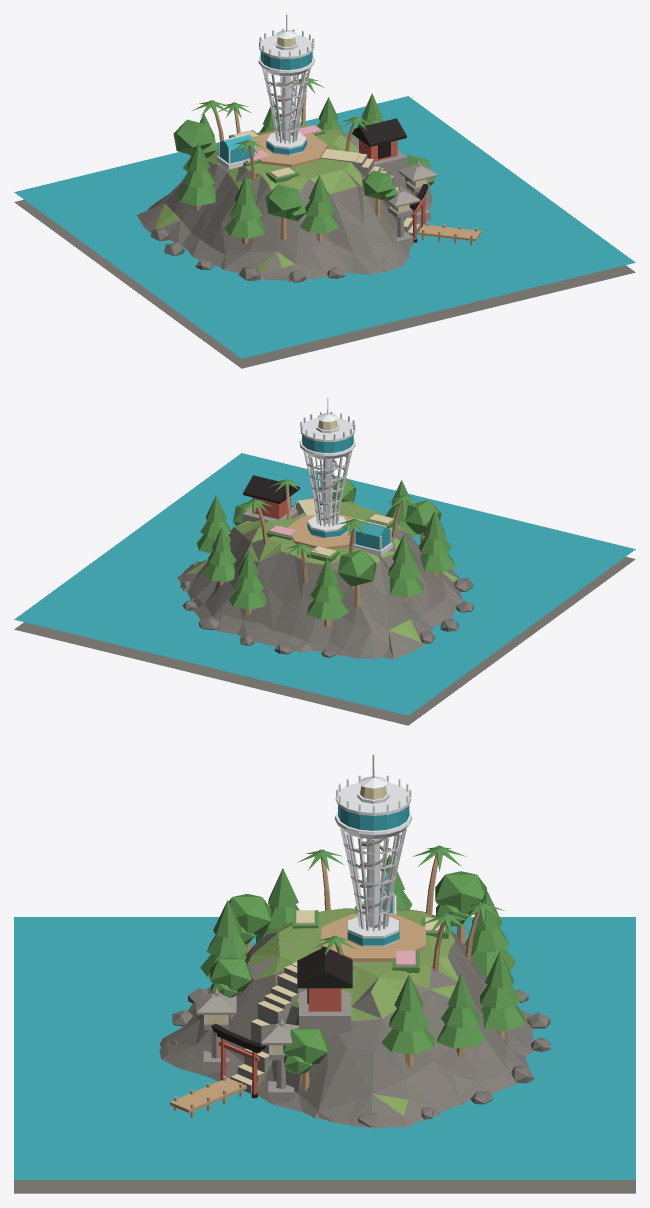
Rendered from enoshima-lighthouse.glb.
The picture shows the model from 3 angles, top to bottom: view 1: azimuth 30°, elevation 25°; view 2: azimuth 150°, elevation 25°; view 3: azimuth 270°, elevation 25°; orthographic projection. The views are drawn at different scales.
Parts seen in each view (by area): view 1: enoshima_water, enoshima_darkstone, enoshima_foliage, enoshima_snow, enoshima_terrain, enoshima_wood, enoshima_stone, enoshima_roof, enoshima_cream, enoshima_vermilion; view 2: enoshima_water, enoshima_darkstone, enoshima_foliage, enoshima_snow, enoshima_terrain, enoshima_wood, enoshima_roof, enoshima_stone, enoshima_cream; view 3: enoshima_water, enoshima_darkstone, enoshima_foliage, enoshima_snow, enoshima_terrain, enoshima_stone, enoshima_wood, enoshima_roof, enoshima_vermilion, enoshima_cream.
Part boxes in pixels (<box>): enoshima_water: <box>14,51,635,358</box>; enoshima_darkstone: <box>14,134,635,368</box>; enoshima_foliage: <box>173,77,434,238</box>; enoshima_snow: <box>216,14,314,169</box>; enoshima_terrain: <box>154,125,384,274</box>; enoshima_wood: <box>190,86,481,245</box>; enoshima_stone: <box>276,75,437,247</box>; enoshima_roof: <box>352,118,428,242</box>; enoshima_cream: <box>233,130,419,232</box>; enoshima_vermilion: <box>359,139,425,239</box>; enoshima_water: <box>14,434,635,715</box>; enoshima_darkstone: <box>14,524,635,725</box>; enoshima_foliage: <box>197,478,455,619</box>; enoshima_snow: <box>299,397,392,555</box>; enoshima_terrain: <box>186,501,457,642</box>; enoshima_wood: <box>218,487,438,627</box>; enoshima_roof: <box>243,475,299,507</box>; enoshima_stone: <box>242,458,337,522</box>; enoshima_cream: <box>291,499,393,557</box>; enoshima_water: <box>14,805,635,1179</box>; enoshima_darkstone: <box>14,911,635,1193</box>; enoshima_foliage: <box>200,845,525,1074</box>; enoshima_snow: <box>334,754,412,946</box>; enoshima_terrain: <box>247,908,458,1115</box>; enoshima_stone: <box>196,838,386,1102</box>; enoshima_wood: <box>170,855,504,1117</box>; enoshima_roof: <box>211,946,352,1098</box>; enoshima_vermilion: <box>218,988,341,1094</box>; enoshima_cream: <box>231,910,444,1085</box>.
Bounding box in the file's own units: 19.2 × 10 × 19.2.
